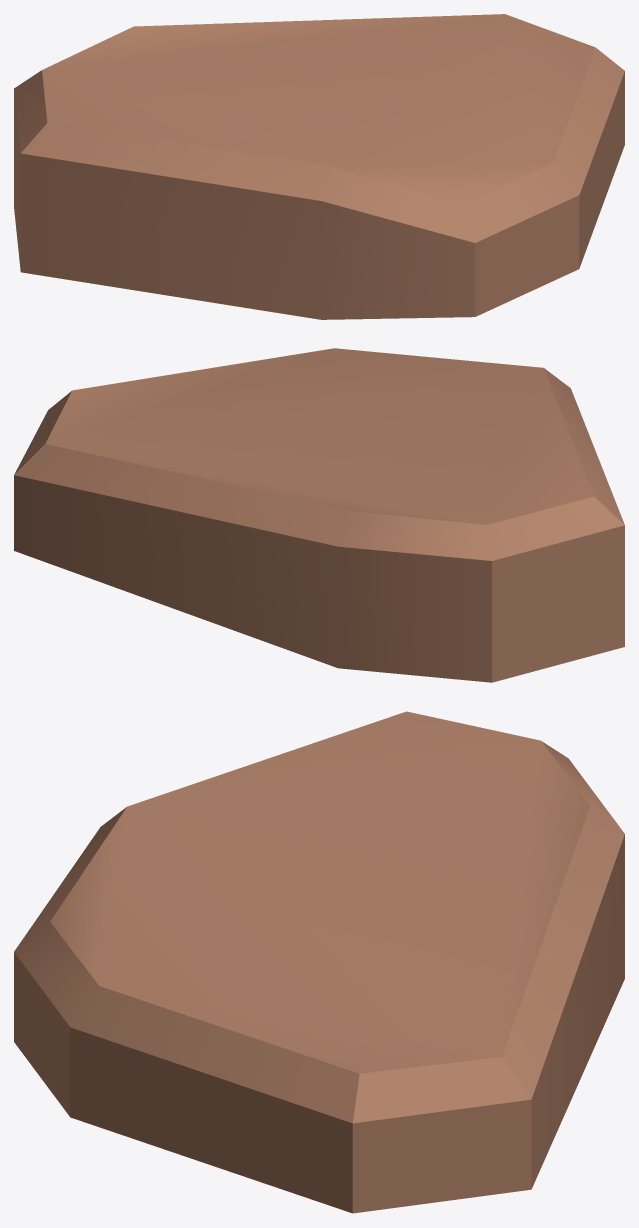
The model's file is 07 Stone.FBX.
3 views of the same model, one above another, from view 1: azimuth 30°, elevation 25°; view 2: azimuth 150°, elevation 25°; view 3: azimuth 270°, elevation 25° (orthographic). The views are drawn at different scales.
Parts seen in each view (by area): view 1: Cylinder121; view 2: Cylinder121; view 3: Cylinder121.
Boxes of the visible parts, x1,y1,x2,y2 form: Cylinder121: (14, 14, 624, 319); Cylinder121: (14, 348, 624, 682); Cylinder121: (14, 711, 624, 1213).
Bounding box in the file's own units: 467 × 109 × 348.
